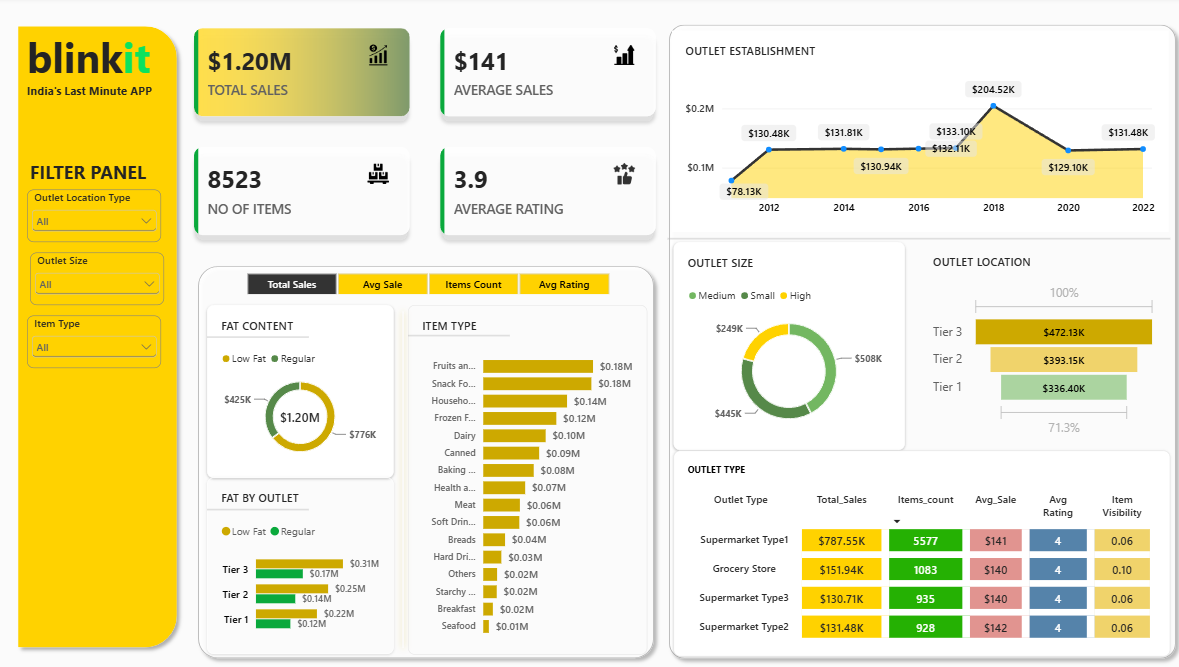

Layout of this report page (visuals, bound fields, positions):
{"tool":"powerbi","page":{"name":"Page 1","canvas":[1400,800],"ordinal":0},"visuals":[{"type":"shape","box":[16,26,205,750],"z":0},{"type":"textbox","box":[36,39,158,74],"z":1000},{"type":"textbox","box":[36,100,158,26],"z":2000},{"type":"cardVisual","fields":{"Data":["BlinkIT Grocery Data.Total_Sales","BlinkIT Grocery Data.Avg_Sale","BlinkIT Grocery Data.Items_count","BlinkIT Grocery Data.Avg_rating"]},"box":[220,25,570,270],"z":3000},{"type":"shape","box":[228,310,555,480],"z":4000},{"type":"slicer","fields":{"Values":["Metrics.Metrics"]},"box":[274,326,466,26],"z":5000},{"type":"donutChart","title":"FAT CONTENT","fields":{"Y":["BlinkIT Grocery Data.Total_Sales"],"Category":["BlinkIT Grocery Data.Item Fat Content"]},"box":[248,364,220,204],"z":6000},{"type":"clusteredBarChart","title":"FAT BY OUTLET","fields":{"Y":["BlinkIT Grocery Data.Total_Sales"],"Series":["BlinkIT Grocery Data.Item Fat Content"],"Category":["BlinkIT Grocery Data.Outlet Location Type"]},"box":[248,568,220,208],"z":7000},{"type":"shape","box":[460,364,38,412],"z":8000},{"type":"barChart","title":"ITEM TYPE","fields":{"Y":["BlinkIT Grocery Data.Total_Sales"],"Category":["BlinkIT Grocery Data.Item Type"]},"box":[484,364,282,412],"z":9000},{"type":"shape","box":[484,394,120,12],"z":10000},{"type":"shape","box":[248,396,120,12],"z":11000},{"type":"shape","box":[248,600,120,12],"z":12000},{"type":"shape","box":[782.5,25,615,765],"z":13000},{"type":"lineChart","title":"OUTLET ESTABLISHMENT","fields":{"Category":["BlinkIT Grocery Data.Outlet Establishment Year"],"Y":["BlinkIT Grocery Data.Total_Sales"]},"box":[796,40,585,237.5],"z":14000},{"type":"shape","box":[790,272.5,592.5,27.5],"z":15000},{"type":"donutChart","title":"OUTLET SIZE","fields":{"Y":["BlinkIT Grocery Data.Total_Sales"],"Category":["BlinkIT Grocery Data.Outlet Size"]},"box":[797.5,290,272.5,245],"z":16000},{"type":"funnel","title":"OUTLET LOCATION","fields":{"Y":["BlinkIT Grocery Data.Total_Sales"],"Category":["BlinkIT Grocery Data.Outlet Location Type"]},"box":[1087.5,290,295,245],"z":17000},{"type":"pivotTable","title":"OUTLET TYPE","fields":{"Rows":["BlinkIT Grocery Data.Outlet Type"],"Values":["BlinkIT Grocery Data.Total_Sales","BlinkIT Grocery Data.Items_count","BlinkIT Grocery Data.Avg_Sale","BlinkIT Grocery Data.Avg Rating","Avg(BlinkIT Grocery Data.Item Visibility)"]},"box":[797.5,535,585,242.5],"z":18000},{"type":"slicer","fields":{"Values":["BlinkIT Grocery Data.Outlet Location Type"]},"box":[36,228,158,62],"z":19000},{"type":"slicer","fields":{"Values":["BlinkIT Grocery Data.Outlet Size"]},"box":[38,302,158,62],"z":20000},{"type":"slicer","fields":{"Values":["BlinkIT Grocery Data.Item Type"]},"box":[36,376,158,62],"z":21000},{"type":"textbox","box":[38,192,156,36],"z":22000}]}

Visuals, with their boxes in screenshot pixels (x1, y1, x2, y2), scaled from the page's 1400x800 canvas onto the 1179x667 screenshot:
shape: <box>13,22,186,647</box>
textbox: <box>30,33,163,94</box>
textbox: <box>30,83,163,105</box>
cardVisual - BlinkIT Grocery Data.Total_Sales x BlinkIT Grocery Data.Avg_Sale: <box>185,21,665,246</box>
shape: <box>192,258,659,659</box>
slicer - Metrics.Metrics: <box>231,272,623,293</box>
"FAT CONTENT" donutChart: <box>209,303,394,474</box>
"FAT BY OUTLET" clusteredBarChart: <box>209,474,394,647</box>
shape: <box>387,303,419,647</box>
"ITEM TYPE" barChart: <box>408,303,645,647</box>
shape: <box>408,328,509,339</box>
shape: <box>209,330,310,340</box>
shape: <box>209,500,310,510</box>
shape: <box>659,21,1177,659</box>
"OUTLET ESTABLISHMENT" lineChart: <box>670,33,1163,231</box>
shape: <box>665,227,1164,250</box>
"OUTLET SIZE" donutChart: <box>672,242,901,446</box>
"OUTLET LOCATION" funnel: <box>916,242,1164,446</box>
"OUTLET TYPE" pivotTable: <box>672,446,1164,648</box>
slicer - BlinkIT Grocery Data.Outlet Location Type: <box>30,190,163,242</box>
slicer - BlinkIT Grocery Data.Outlet Size: <box>32,252,165,303</box>
slicer - BlinkIT Grocery Data.Item Type: <box>30,313,163,365</box>
textbox: <box>32,160,163,190</box>
